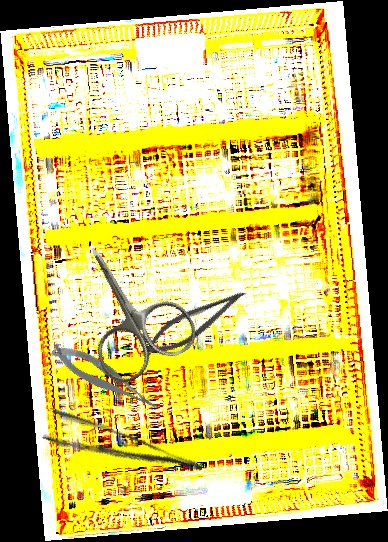Dressing Forceps: (41, 405, 205, 497)
Iris Scissors: (49, 222, 204, 391)
Micro Scissor: (47, 333, 163, 425), (137, 276, 252, 367)
